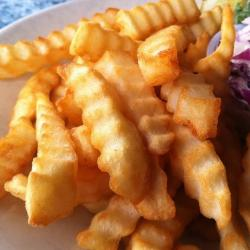fries: (50, 51, 224, 217)
